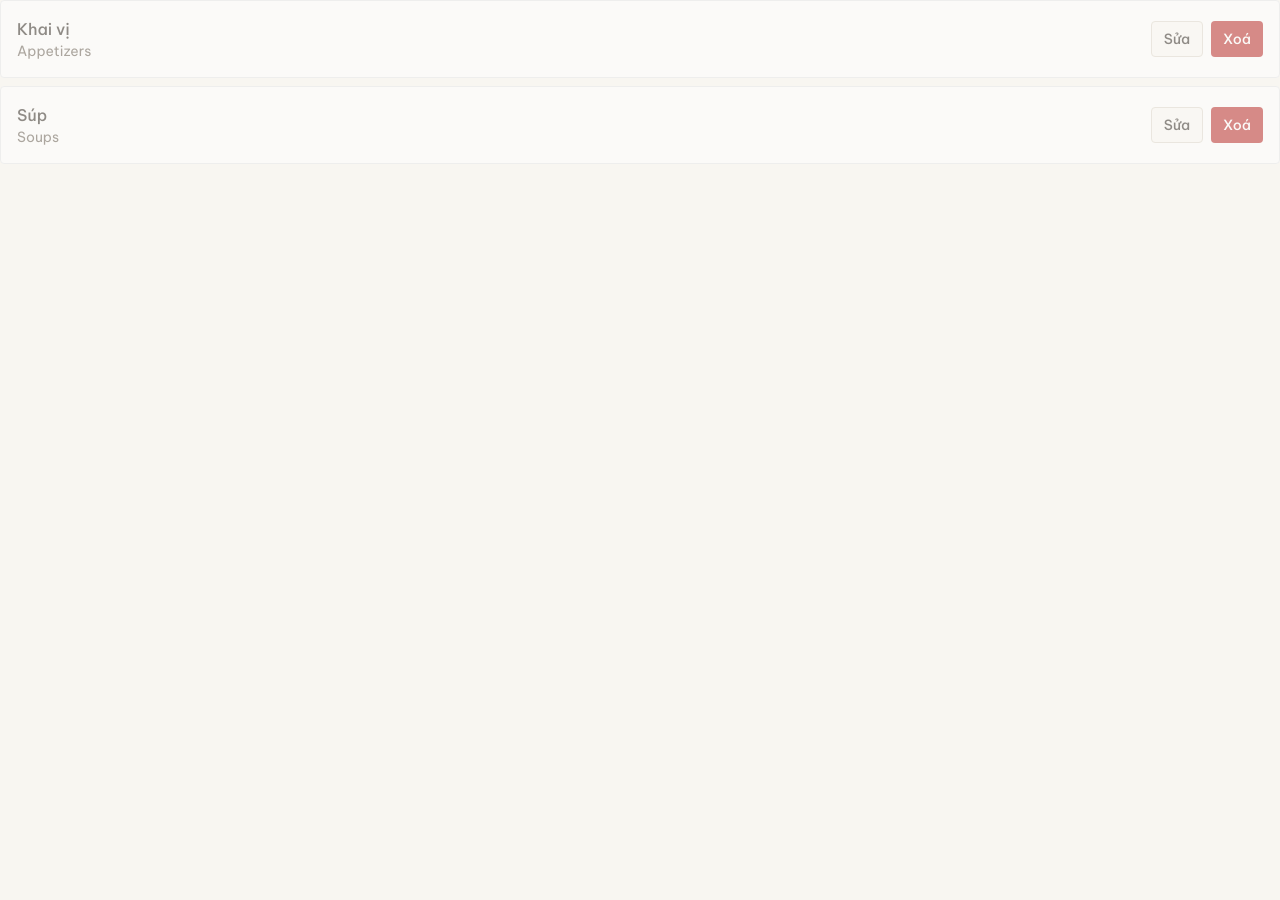
Test case: CategoriesTable › warns about the number of menu items when deleting a category that has some
This screenshot has width=1280, height=900.
Click the button "Xoá" in the row of "Appetizers" at point(1237, 39), box [1211, 21, 1263, 57]
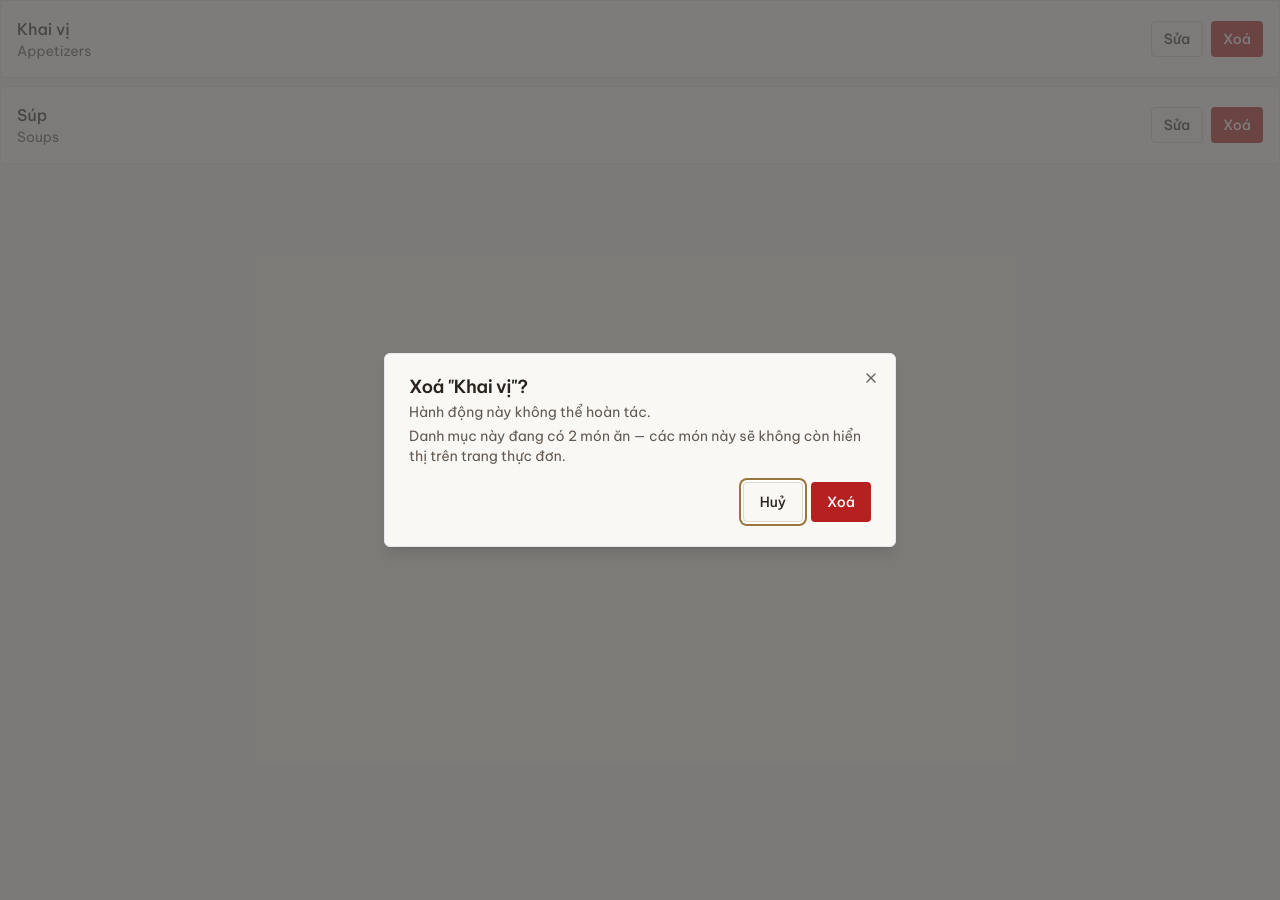
Now the text "Danh mục này đang có 2 món ăn — các món này sẽ không còn hiển thị trên trang thực đơn." is shown, box [409, 427, 861, 465]
